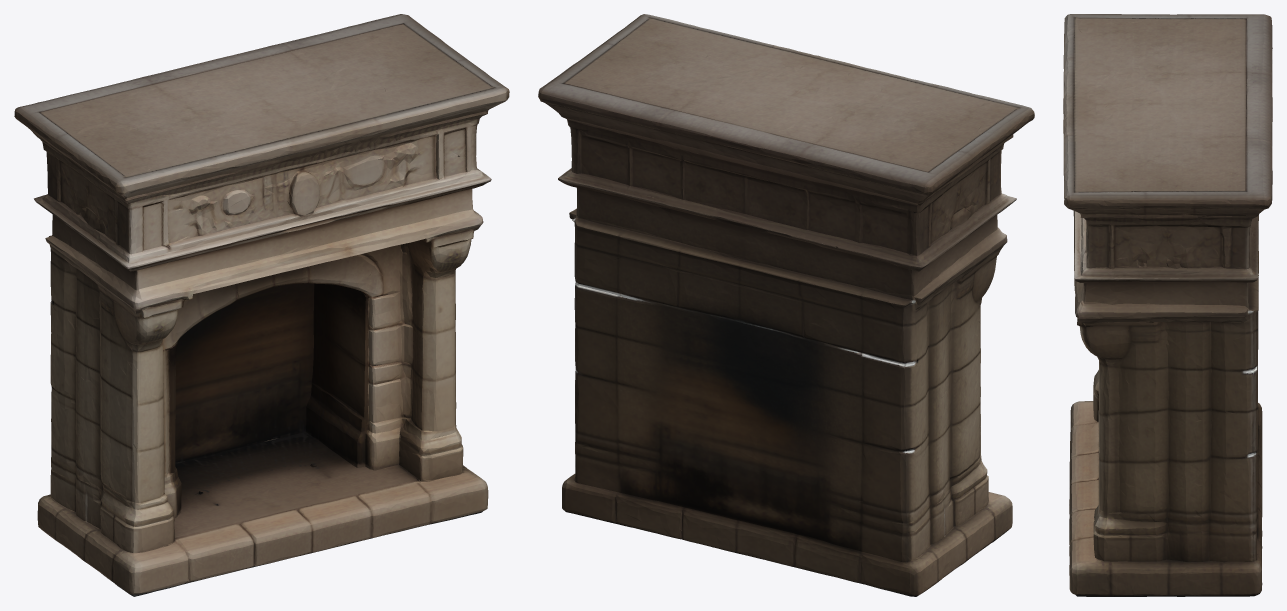
3 renders of one model, left to right at view 1: azimuth 30°, elevation 25°; view 2: azimuth 150°, elevation 25°; view 3: azimuth 270°, elevation 25°, orthographic. The views are drawn at different scales.
Parts seen in each view (by area): view 1: world; view 2: world; view 3: world.
Boxes of the visible parts, left/top/right/bottom form: world: left=14, top=14, right=509, bottom=596; world: left=538, top=14, right=1034, bottom=596; world: left=1063, top=14, right=1272, bottom=596.
Size of the model in its own units: 0.962 by 0.9889 by 0.4566.
Materials: 1 (1 with a texture image).
